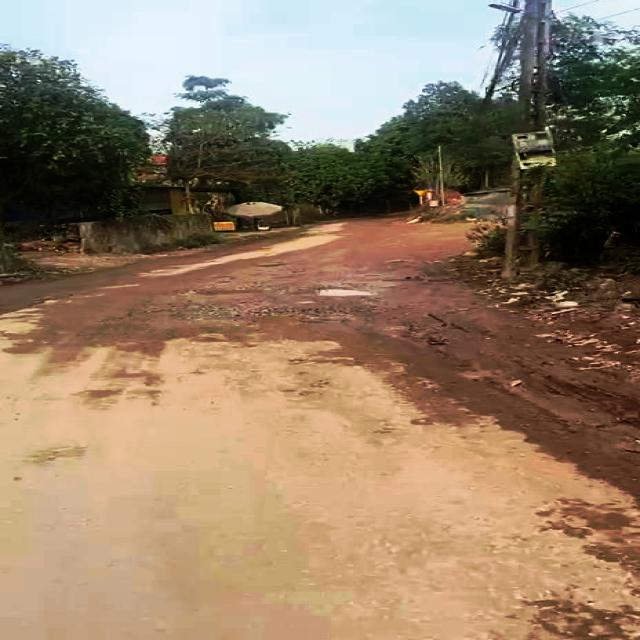pothole: (157, 300, 353, 323), (171, 286, 268, 298), (305, 287, 375, 298)
